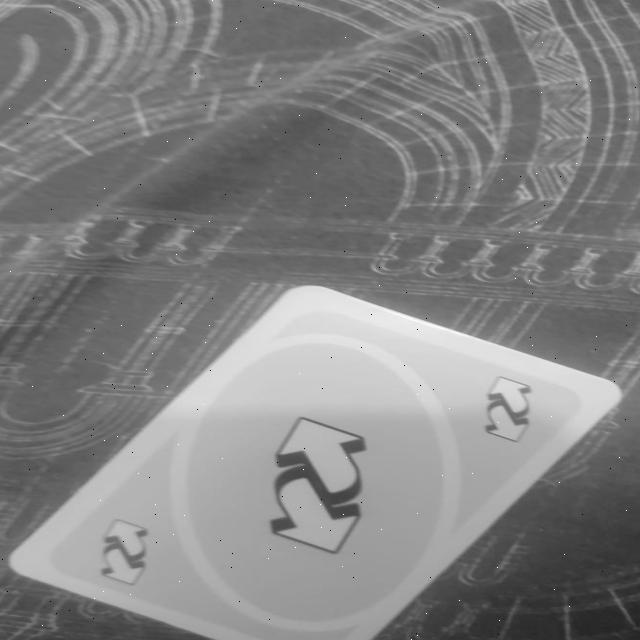reverse_card: (8, 283, 624, 640)
